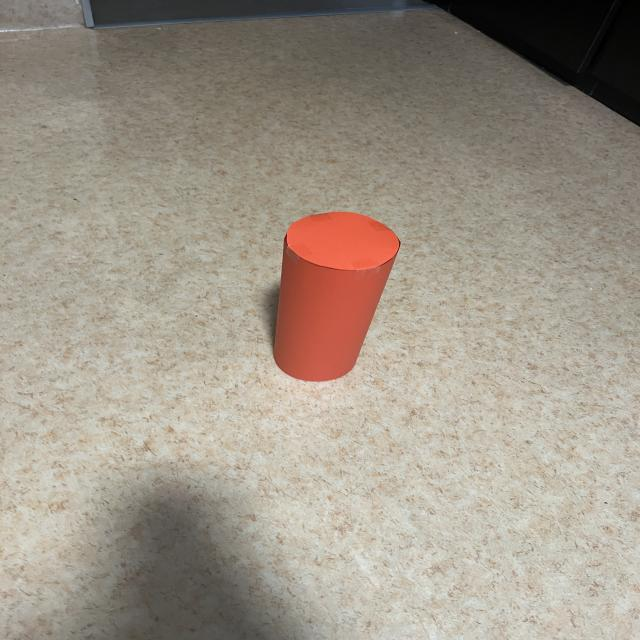przeszkoda: (274, 212, 400, 381)
